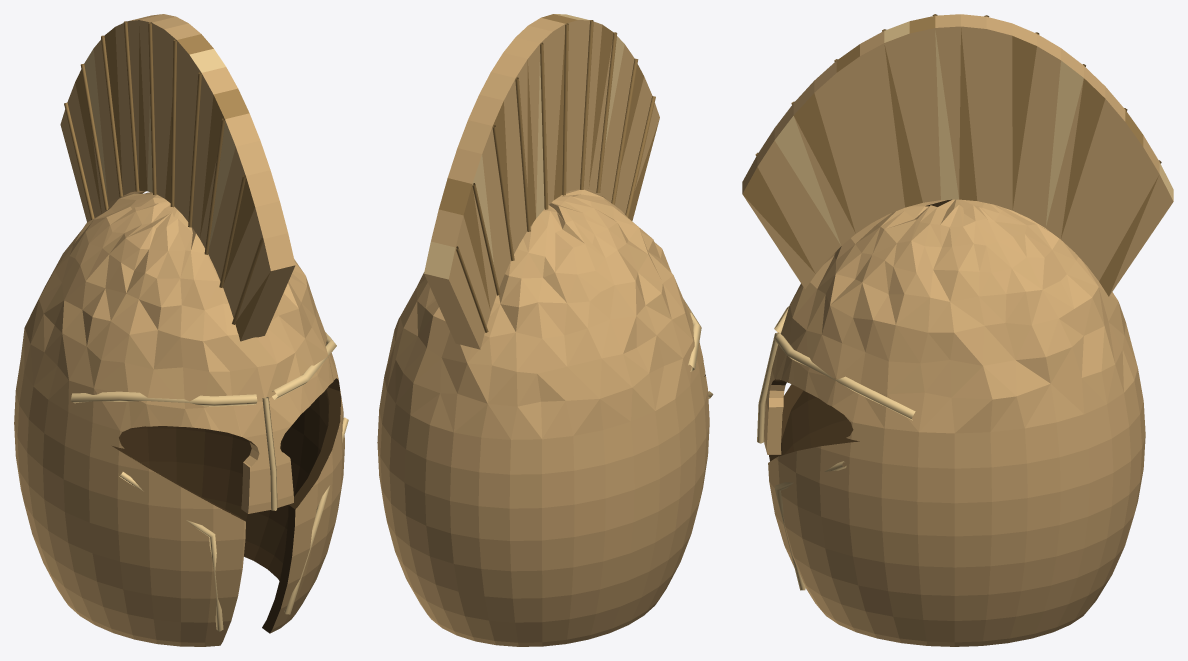
File: reference.glb
3 views of the same model, side by side, from view 1: azimuth 30°, elevation 25°; view 2: azimuth 150°, elevation 25°; view 3: azimuth 270°, elevation 25° (orthographic). The views are drawn at different scales.
Parts seen in each view (by area): view 1: Hollow helmet shell, Radial fan crest, Sculpted brow, Nasal spine, Crest vane.005, Crest vane.006, Cheek ridge, Crest vane.004, Crest vane.007, Sculpted brow.001, Crest vane.003, Cheek ridge.001 (+4 smaller); view 2: Hollow helmet shell, Radial fan crest, Crest vane.004, Crest vane.003, Crest vane.005, Crest vane.002, Crest vane.006, Crest vane.001, Crest vane.007, Crest vane, Crest vane.008; view 3: Hollow helmet shell, Radial fan crest, Sculpted brow.001, Nasal spine.
Boxes of the visible parts, x1,y1,x2,y2 form: Hollow helmet shell: (14, 192, 344, 646); Radial fan crest: (60, 14, 295, 341); Sculpted brow: (70, 391, 257, 406); Nasal spine: (262, 397, 277, 510); Crest vane.005: (148, 22, 156, 194); Crest vane.006: (123, 21, 139, 191); Cheek ridge: (119, 472, 223, 631); Crest vane.004: (170, 39, 177, 207); Crest vane.007: (101, 35, 123, 196); Sculpted brow.001: (272, 332, 336, 399); Crest vane.003: (188, 72, 201, 227); Cheek ridge.001: (284, 417, 348, 614); Hollow helmet shell: (377, 189, 709, 646); Radial fan crest: (424, 14, 659, 349); Crest vane.004: (562, 23, 568, 195); Crest vane.003: (580, 20, 593, 189); Crest vane.005: (540, 42, 548, 209); Crest vane.002: (596, 32, 617, 192); Crest vane.006: (515, 77, 530, 231); Crest vane.001: (611, 58, 638, 204); Crest vane.007: (492, 125, 514, 260); Crest vane: (625, 96, 655, 217); Crest vane.008: (472, 183, 500, 295); Hollow helmet shell: (764, 199, 1145, 646); Radial fan crest: (742, 14, 1173, 296); Sculpted brow.001: (774, 333, 915, 420); Nasal spine: (757, 332, 780, 443).
Bounding box in the file's own units: 1.22 × 2.4 × 1.63.
